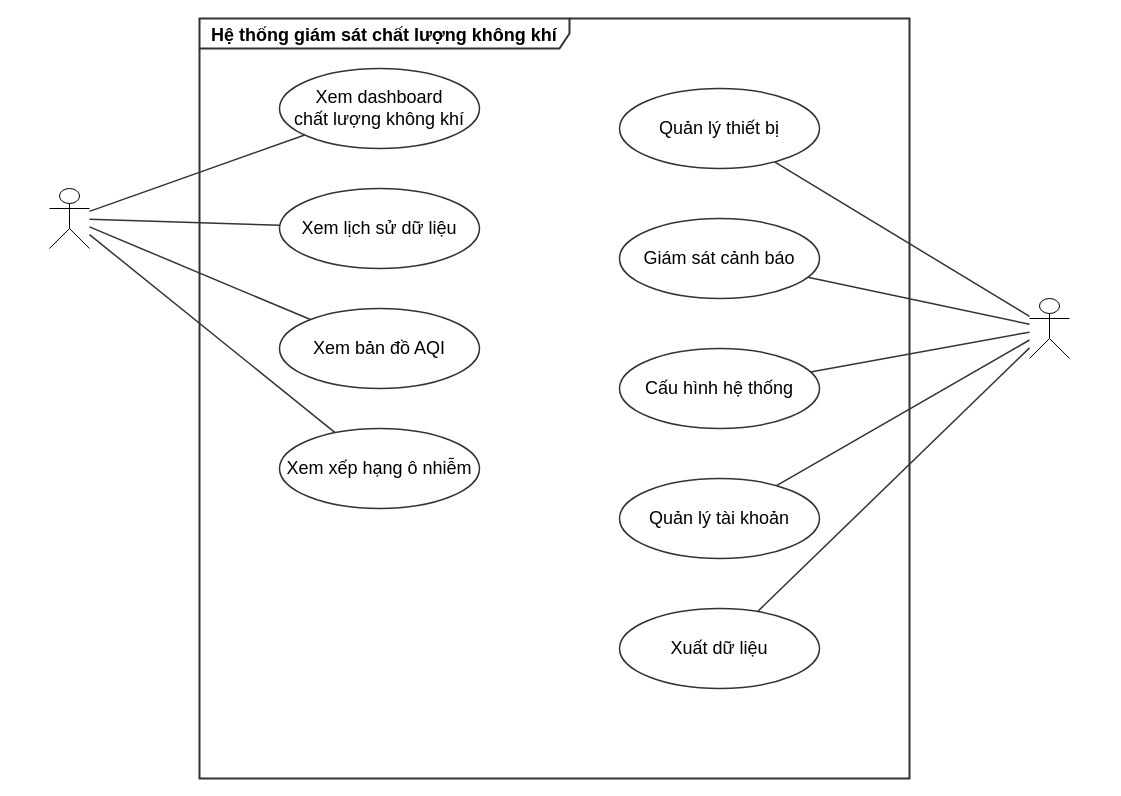
The diagram is 1121 pixels wide and 796 high, and some of its shapes have lost their labels. Here are the shapes that lost their labels. From the top down, the centre of each, then its label:
(69,218): Người dùng
(1049,328): Quản trị viên
